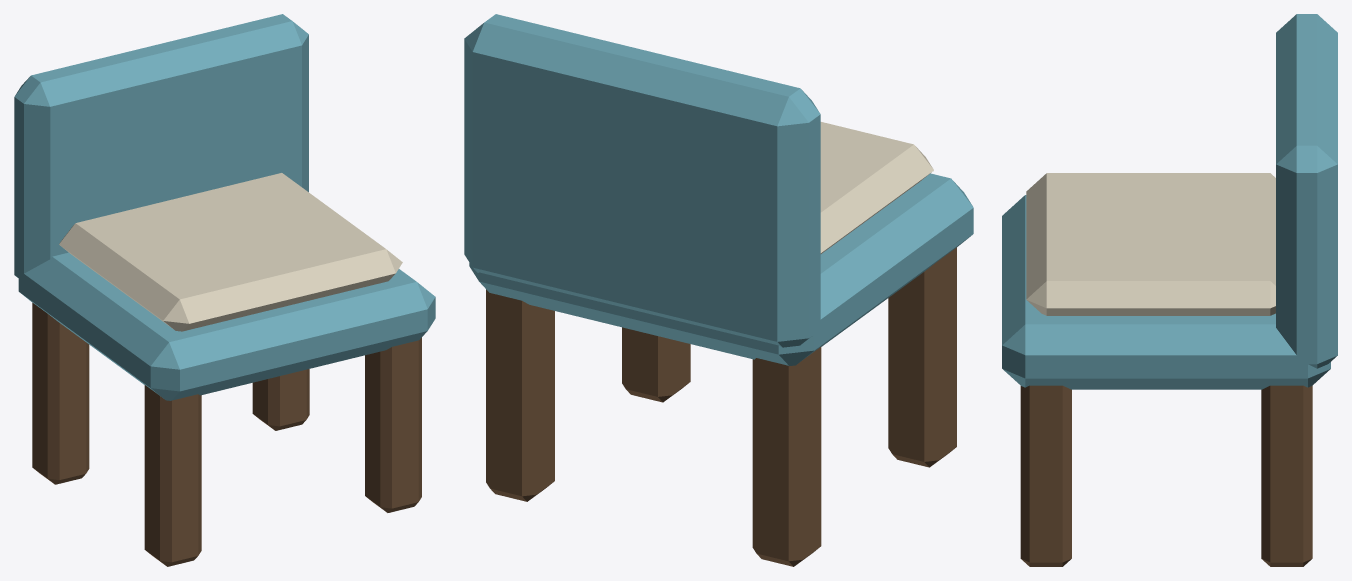
Rendered from padded_chair.glb.
3 views of the same model, side by side, from view 1: azimuth 30°, elevation 25°; view 2: azimuth 150°, elevation 25°; view 3: azimuth 270°, elevation 25° (orthographic). The views are drawn at different scales.
Size of the model in its own units: 0.6864 by 0.9065 by 0.6528.
